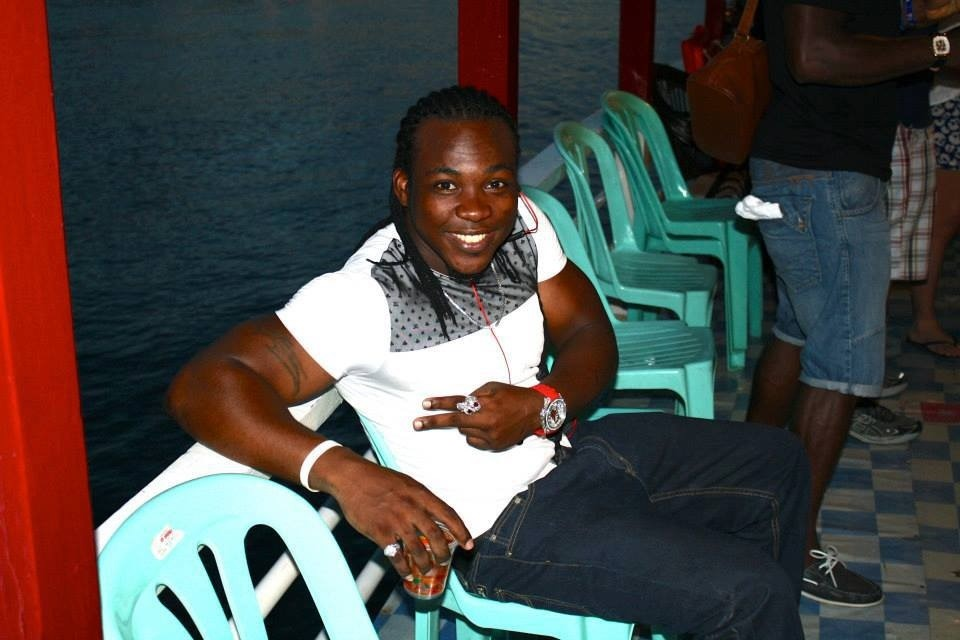face_no_mask: (394, 89, 518, 274)
